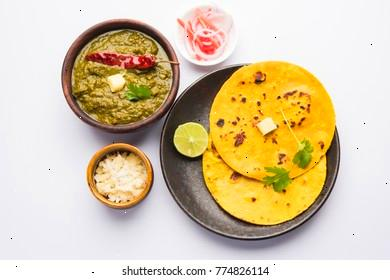saag: (73, 32, 168, 127)
